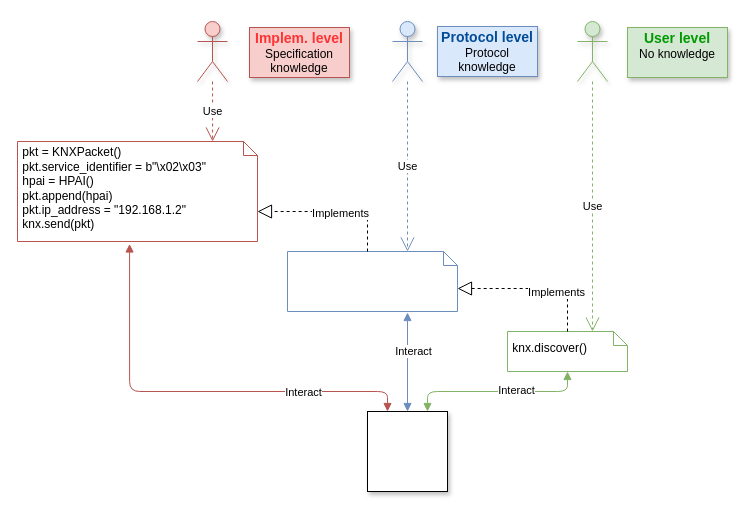
Some shapes in this 751 by 516 pixel diagram are drawn without their labels. Here are the shapes that lost their labels. From the top down, the centre of each, then its label:
At (x=372, y=281): "pkt = KNXPacket(type= SID.description_request) knx.send(pkt)".
At (x=408, y=452): "KNXnet/IP Server".
